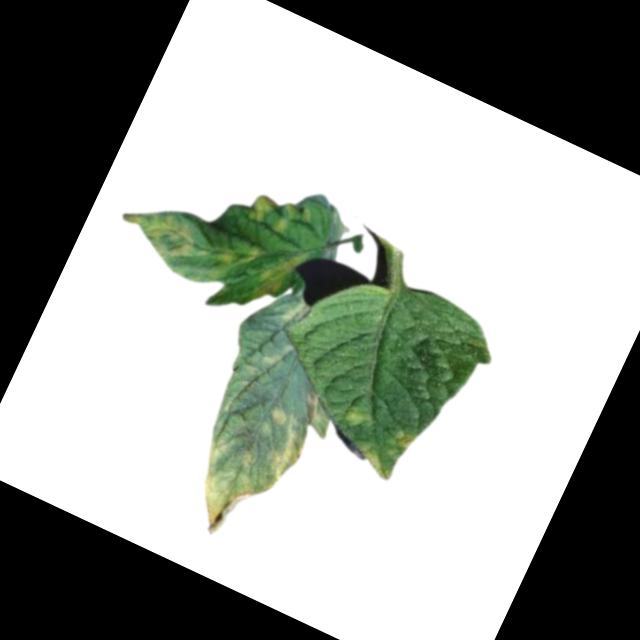Leaf_Mold: (172, 430, 272, 548), (109, 194, 205, 267), (247, 239, 307, 314), (242, 184, 313, 243), (347, 436, 402, 485), (262, 431, 308, 489), (262, 402, 292, 432), (340, 403, 369, 430), (387, 427, 415, 454)
